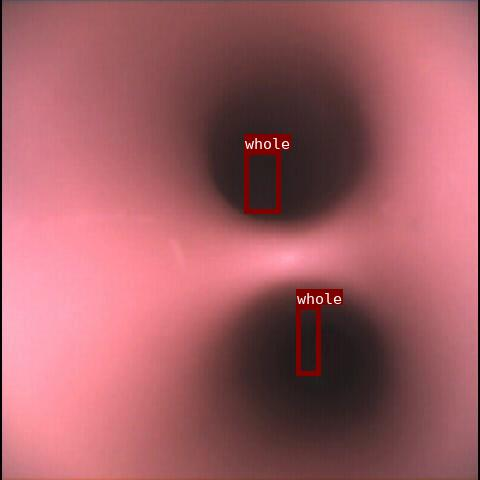whole: (244, 150, 280, 213), (296, 305, 320, 375)
